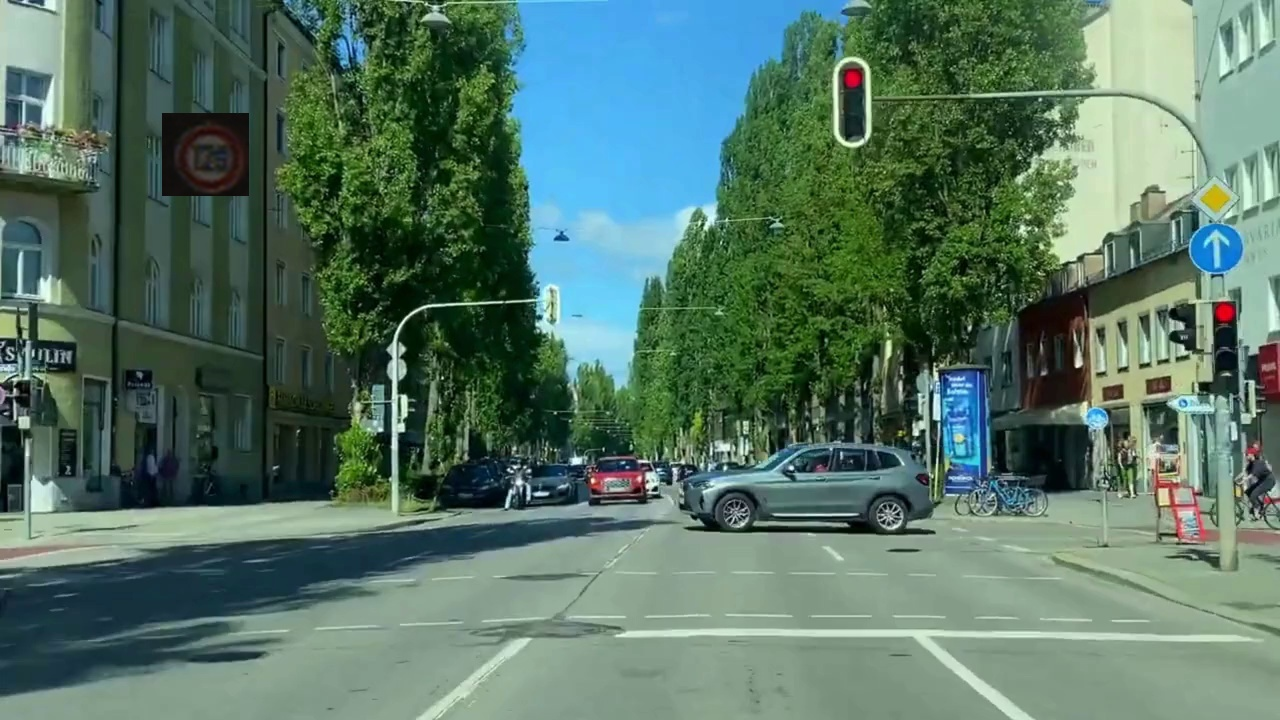Speed 120: (162, 113, 249, 196)
